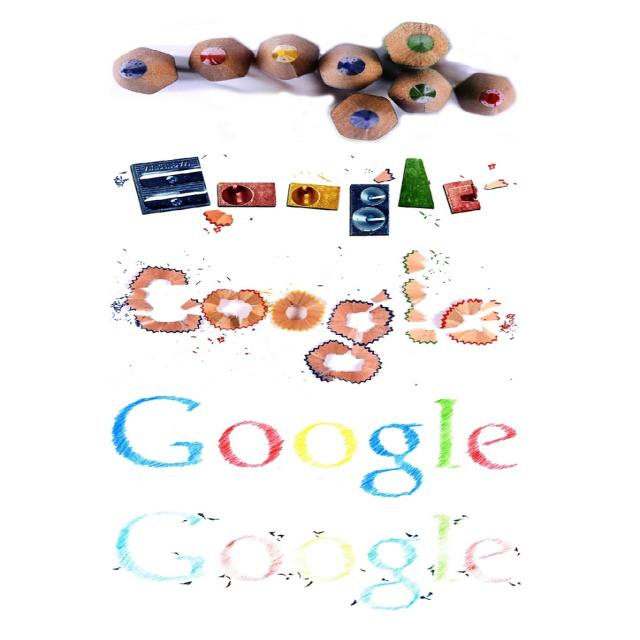google: (103, 390, 536, 505), (107, 507, 531, 614)
